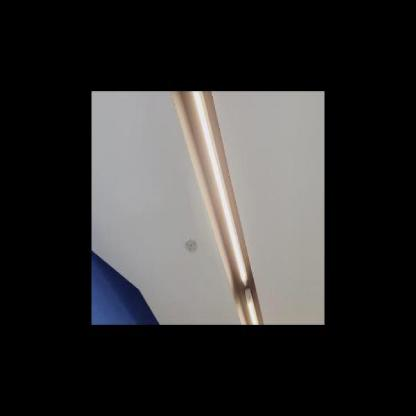light_on: (189, 92, 249, 284), (243, 286, 261, 324)
